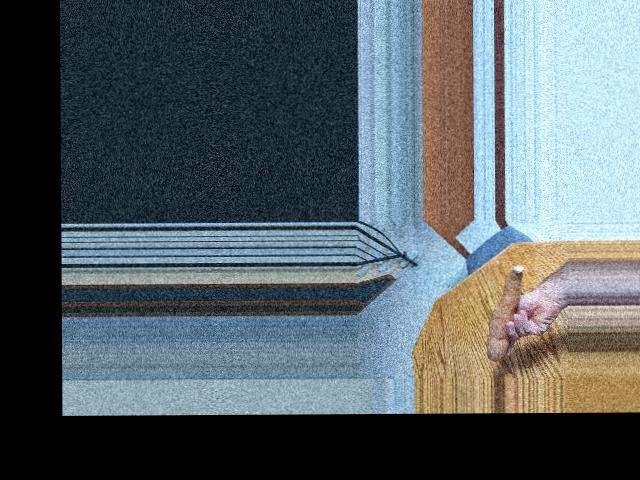sweet_potato: (482, 263, 525, 359)
